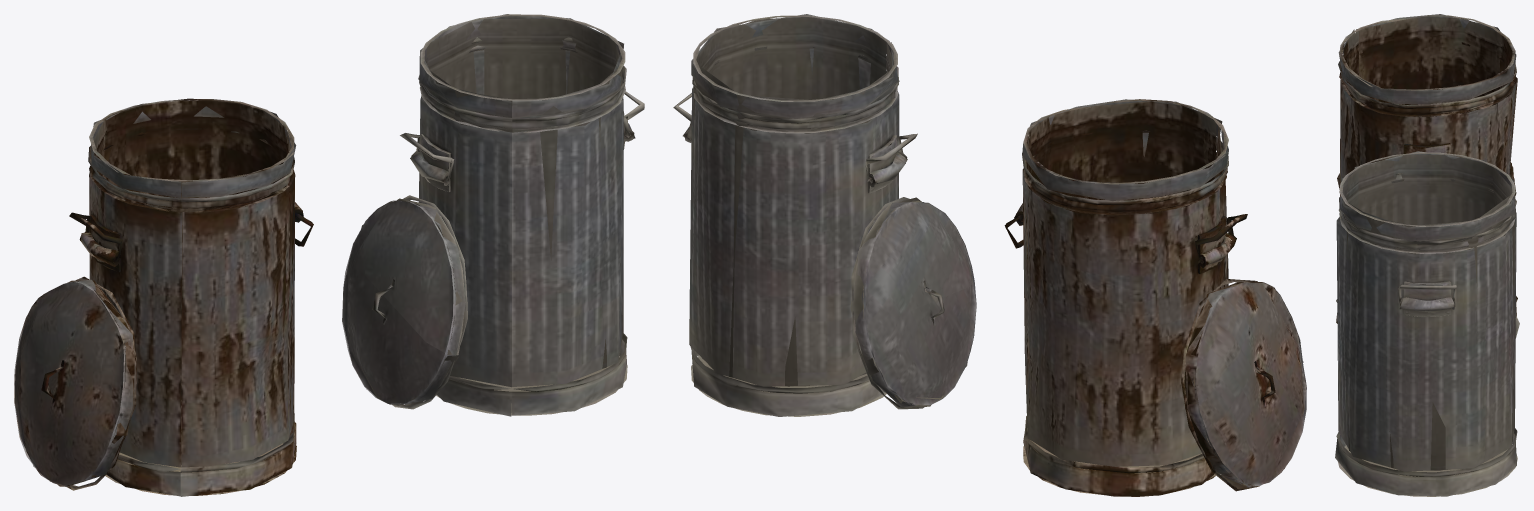
Rendered from metal_trash_can.gltf.
The picture shows the model from 3 angles, left to right: view 1: azimuth 30°, elevation 25°; view 2: azimuth 150°, elevation 25°; view 3: azimuth 270°, elevation 25°; orthographic projection. The views are drawn at different scales.
Parts seen in each view (by area): view 1: metal_trash_can_handle_left; view 2: metal_trash_can_handle_left; view 3: metal_trash_can_handle_left.
Boxes of the visible parts, x1=… form: metal_trash_can_handle_left: x1=14, y1=14, x2=644, y2=496; metal_trash_can_handle_left: x1=673, y1=14, x2=1306, y2=496; metal_trash_can_handle_left: x1=1335, y1=14, x2=1519, y2=496.
Size of the model in its own units: 1.78 by 0.9065 by 0.5644.
Materials: 3 (3 with a texture image).
